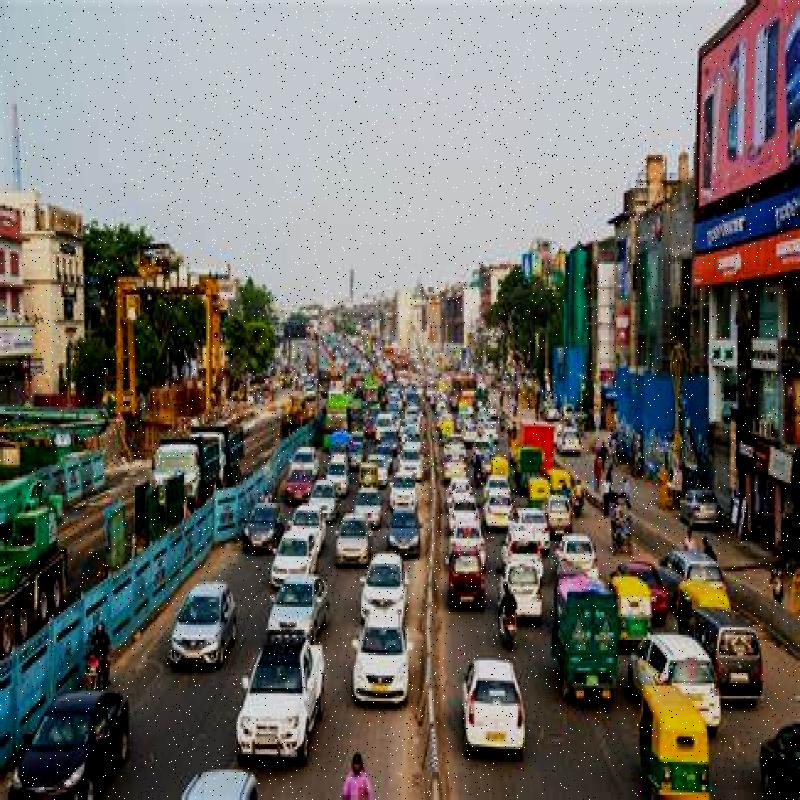auto: (624, 673, 720, 800), (660, 572, 744, 636), (612, 564, 664, 656), (528, 469, 552, 508)
car: (219, 637, 332, 800), (3, 678, 125, 800), (154, 572, 241, 685), (455, 651, 531, 765), (344, 600, 410, 719), (261, 519, 328, 580), (445, 532, 492, 616), (505, 552, 548, 635), (344, 509, 376, 561)
